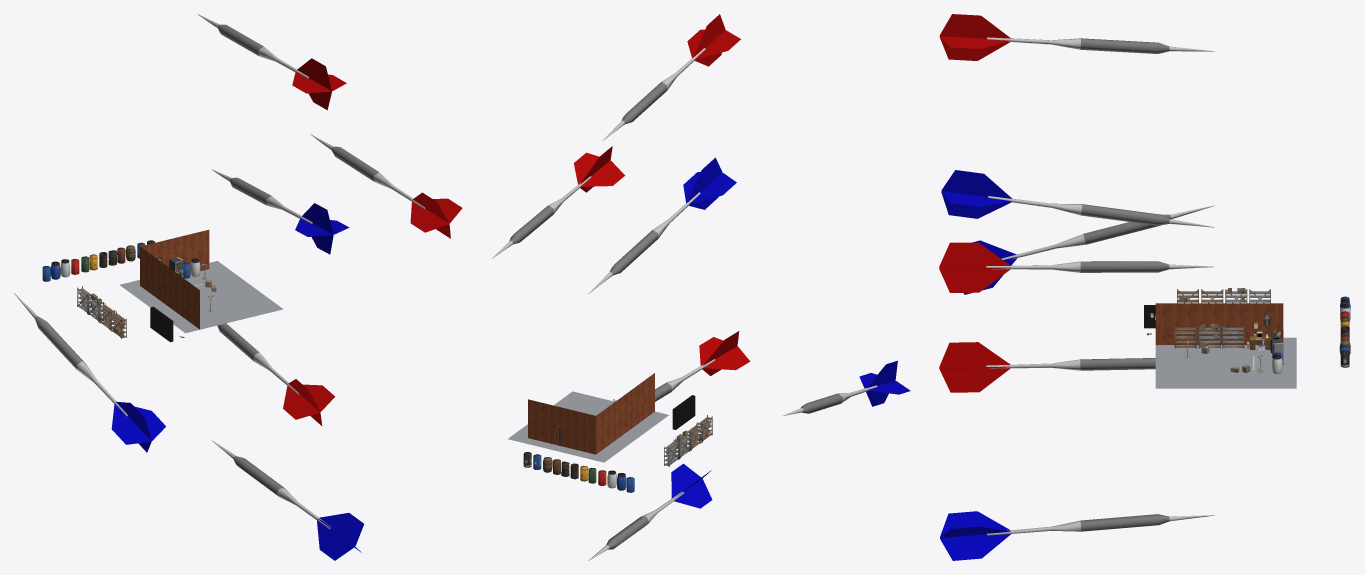
The model's file is garage.glb.
3 renders of one model, left to right at view 1: azimuth 30°, elevation 25°; view 2: azimuth 150°, elevation 25°; view 3: azimuth 270°, elevation 25°, orthographic. The views are drawn at different scales.
Parts seen in each view (by area): view 1: Object_6, Object_7, Floor, Walls, Object_4.001, Object_5.001, Wall; view 2: Walls, Object_7, Object_6, Object_4.001, Floor, Object_5.001, Wall; view 3: Object_7, Object_4.001, Floor, Object_6, Walls, Object_5.001.
Boxes of the visible parts, x1,y1,x2,y2 form: Object_6: [111, 203, 363, 560]; Object_7: [283, 58, 462, 425]; Floor: [119, 261, 283, 333]; Walls: [140, 229, 209, 329]; Object_4.001: [35, 24, 378, 496]; Object_5.001: [14, 14, 425, 529]; Wall: [150, 306, 173, 342]; Walls: [528, 373, 654, 454]; Object_7: [574, 14, 750, 375]; Object_6: [671, 157, 910, 508]; Object_4.001: [509, 82, 842, 549]; Floor: [508, 391, 668, 462]; Object_5.001: [491, 48, 877, 560]; Wall: [672, 395, 695, 429]; Object_7: [939, 14, 1010, 392]; Object_4.001: [1080, 38, 1171, 531]; Floor: [1155, 337, 1296, 388]; Object_6: [940, 170, 1017, 560]; Walls: [1155, 303, 1283, 344]; Object_5.001: [986, 37, 1214, 535].
Bounding box in the file's own units: 40.13 × 56.96 × 40.26.
36 materials, 22 textured.
